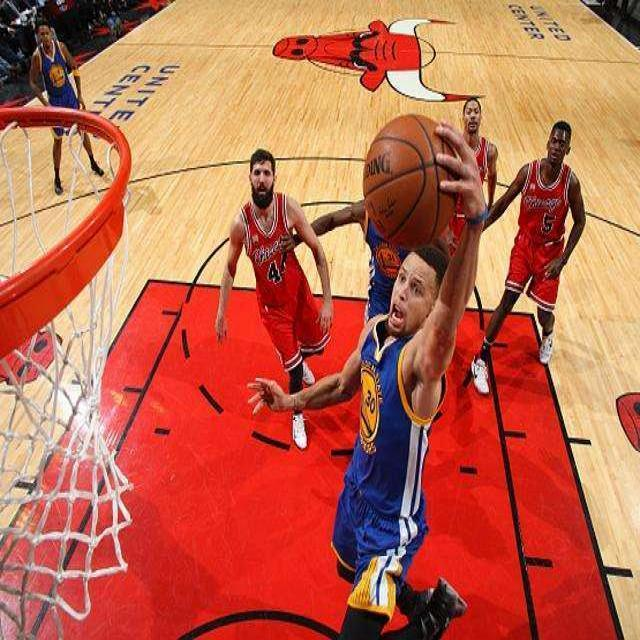ball: (362, 115, 460, 249)
